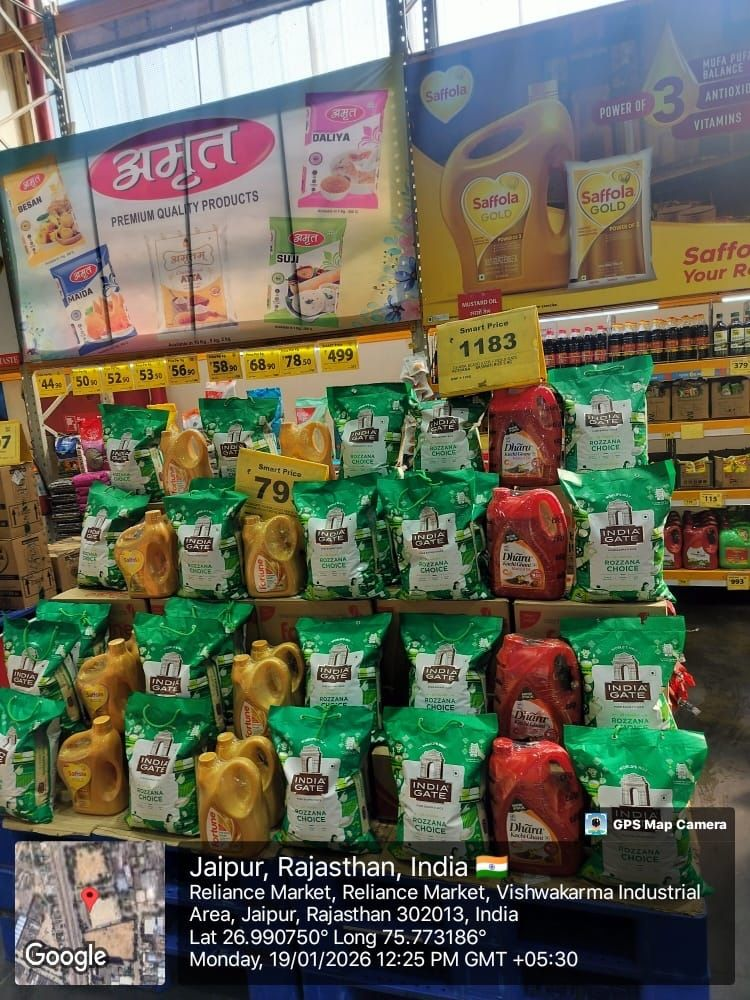other: (152, 354, 716, 910)
saffola: (50, 628, 151, 817), (114, 510, 177, 596)
